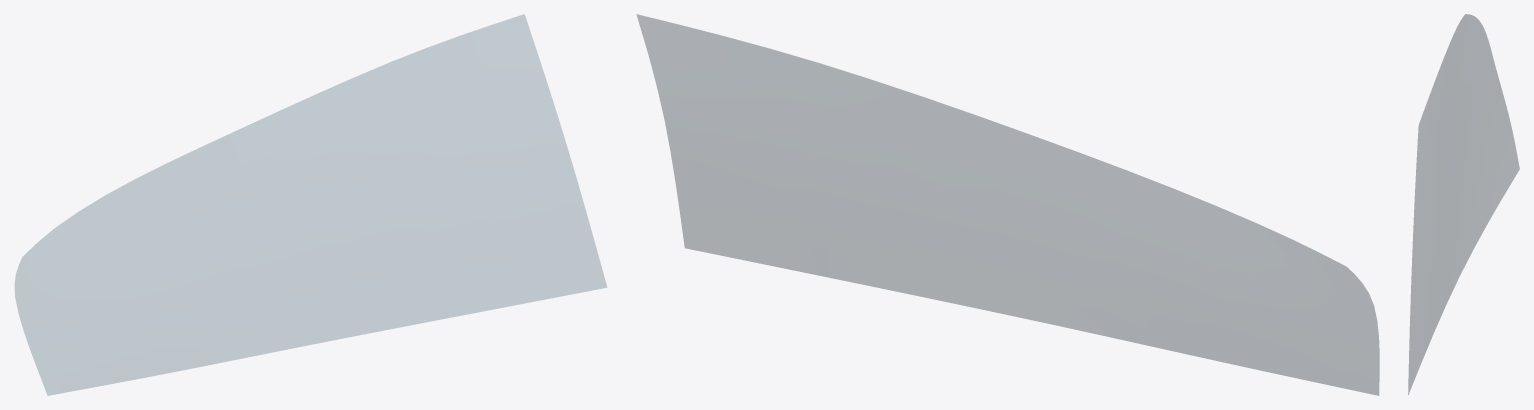
3 renders of one model, left to right at view 1: azimuth 30°, elevation 25°; view 2: azimuth 150°, elevation 25°; view 3: azimuth 270°, elevation 25°, orthographic. The views are drawn at different scales.
Visible parts, largest first — view 1: SM_DodgeCharger_Door_RR_Glass_Int1; view 2: SM_DodgeCharger_Door_RR_Glass_Int1; view 3: SM_DodgeCharger_Door_RR_Glass_Int1.
Part boxes in pixels (bbox=[...]): SM_DodgeCharger_Door_RR_Glass_Int1: bbox=[14, 14, 606, 395]; SM_DodgeCharger_Door_RR_Glass_Int1: bbox=[636, 14, 1379, 395]; SM_DodgeCharger_Door_RR_Glass_Int1: bbox=[1408, 14, 1519, 394].
Bounding box in the file's own units: 0.8063 × 0.3183 × 0.1488.
